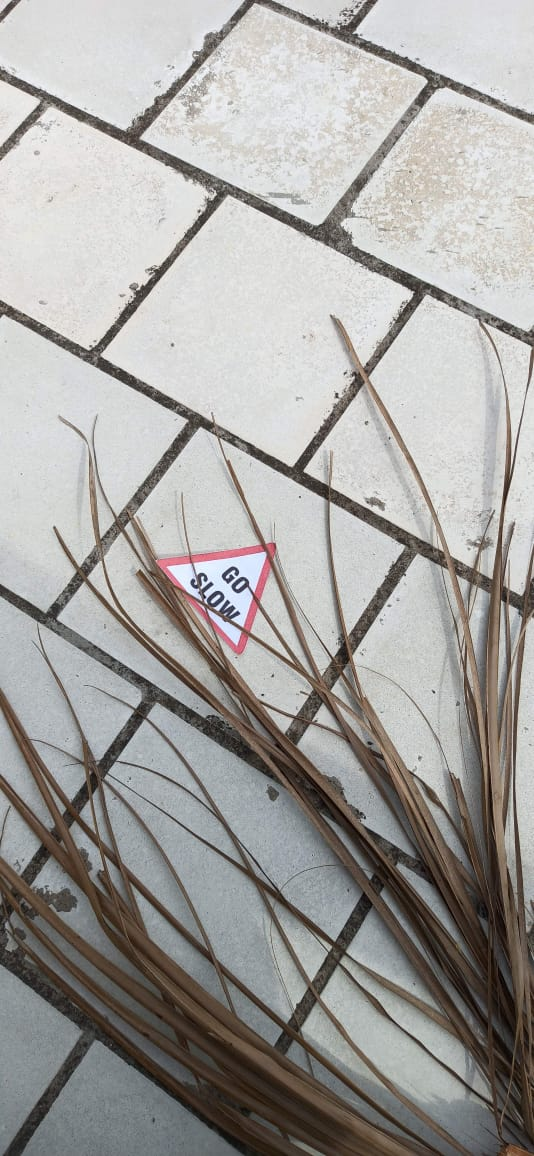GO SLOW: (148, 536, 293, 658)
